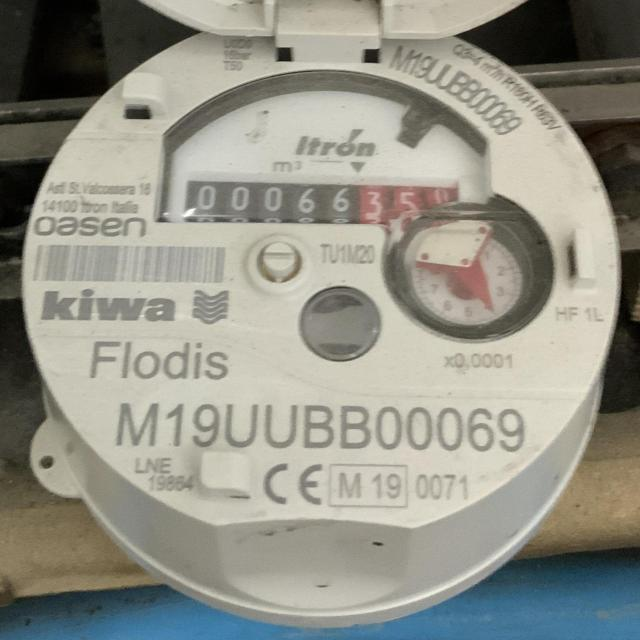gaz_meter: (18, 23, 624, 525)
indication: (186, 177, 459, 228)
